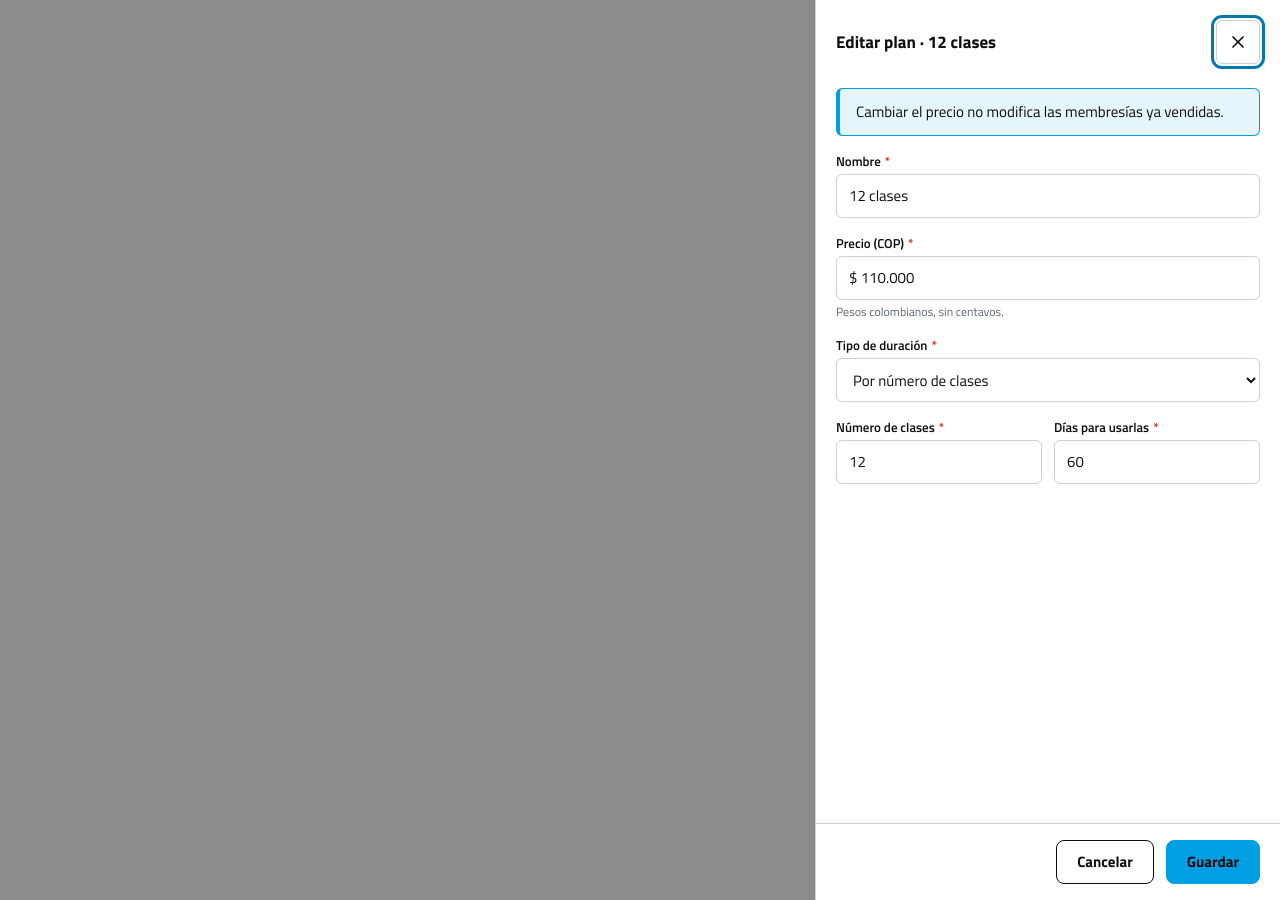
Test: PlanForm · errores del api al editar › un 404 se explica como aviso general
Replace the text in the field labelled "Precio (COP)*" with "135000": (1048, 278) [836, 256, 1260, 300]
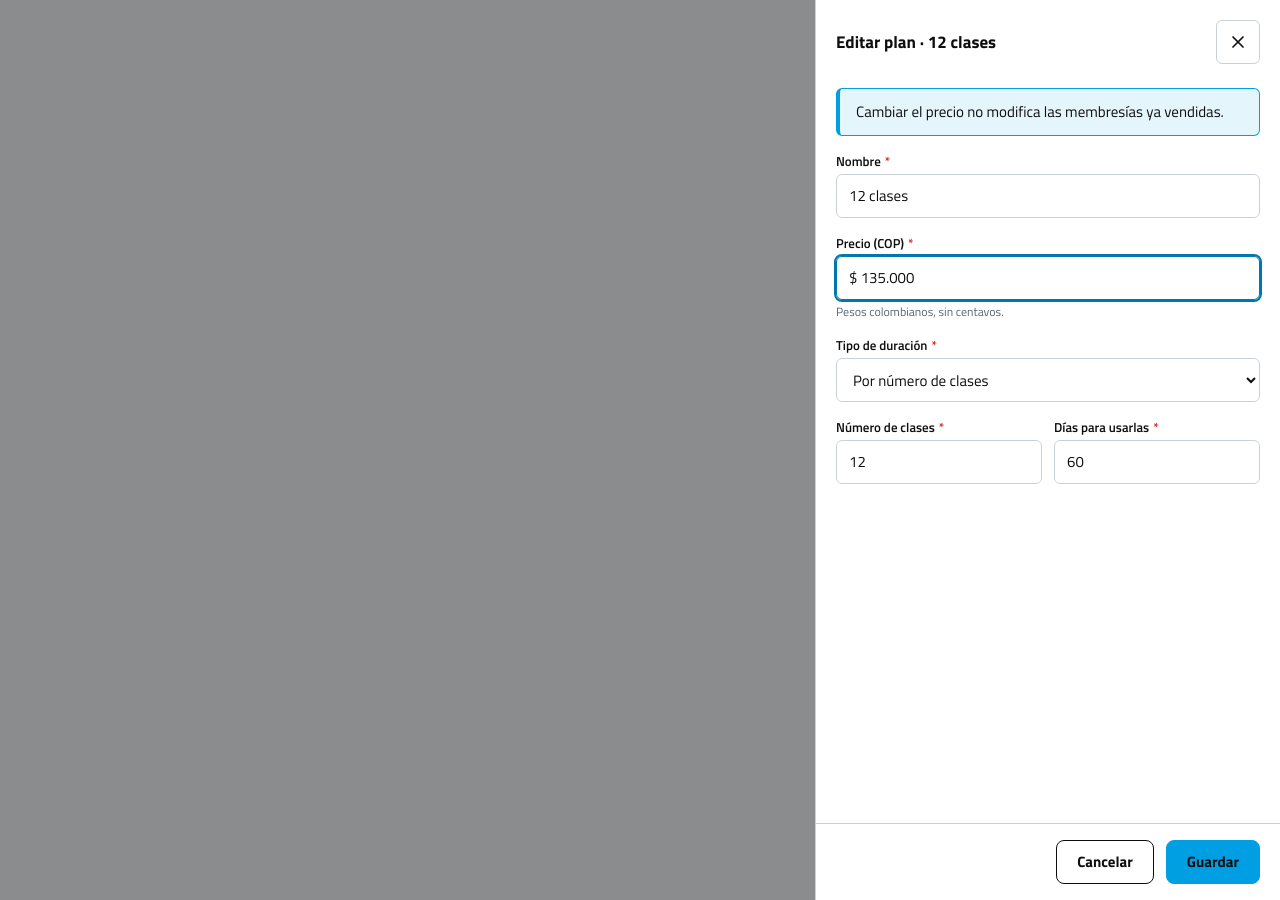
Click the button "Guardar": click(1213, 862) [1166, 840, 1260, 884]
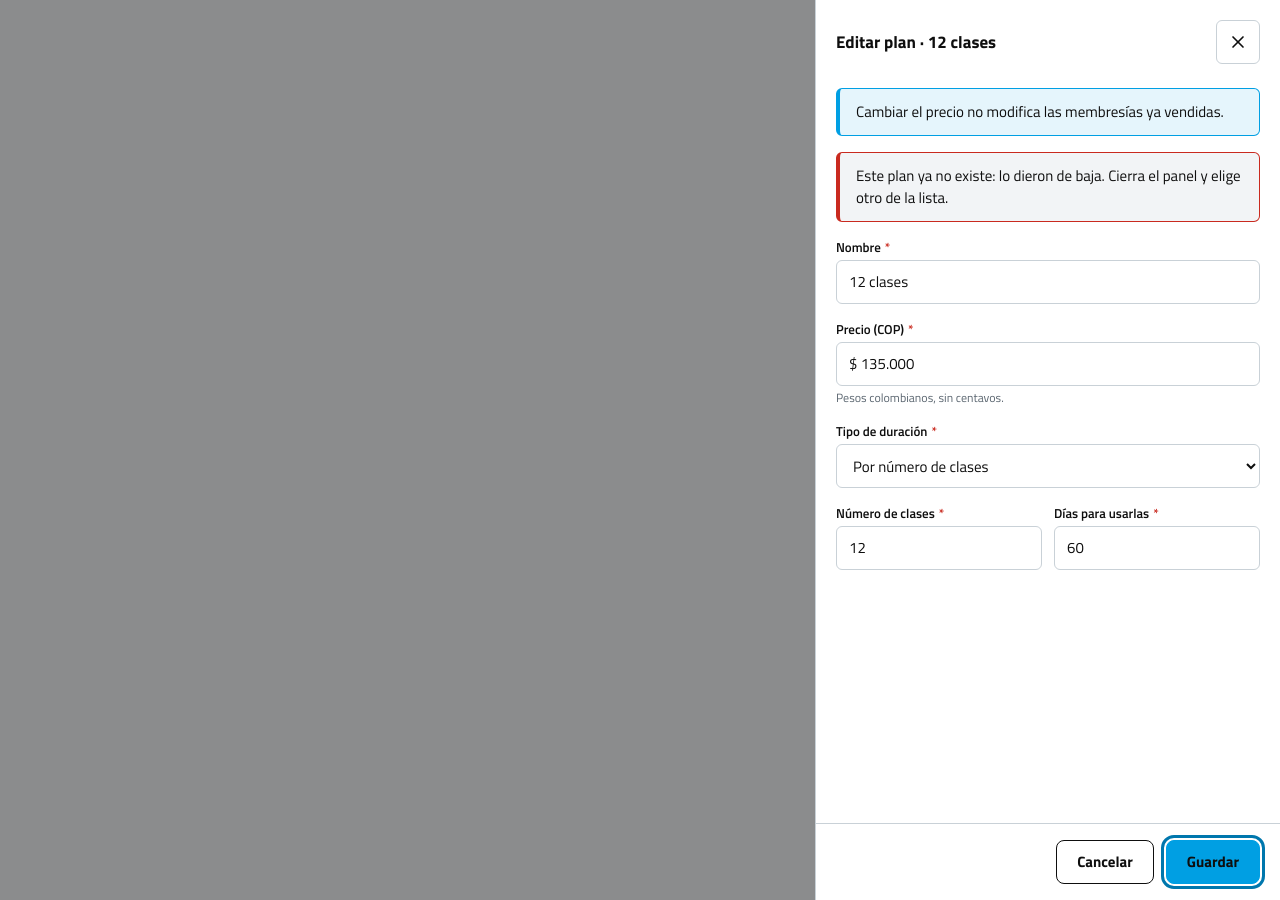
Result: the message shows "Este plan ya no existe: lo dieron de baja. Cierra el panel y elige otro de la lista." at [856, 164, 1241, 209]
